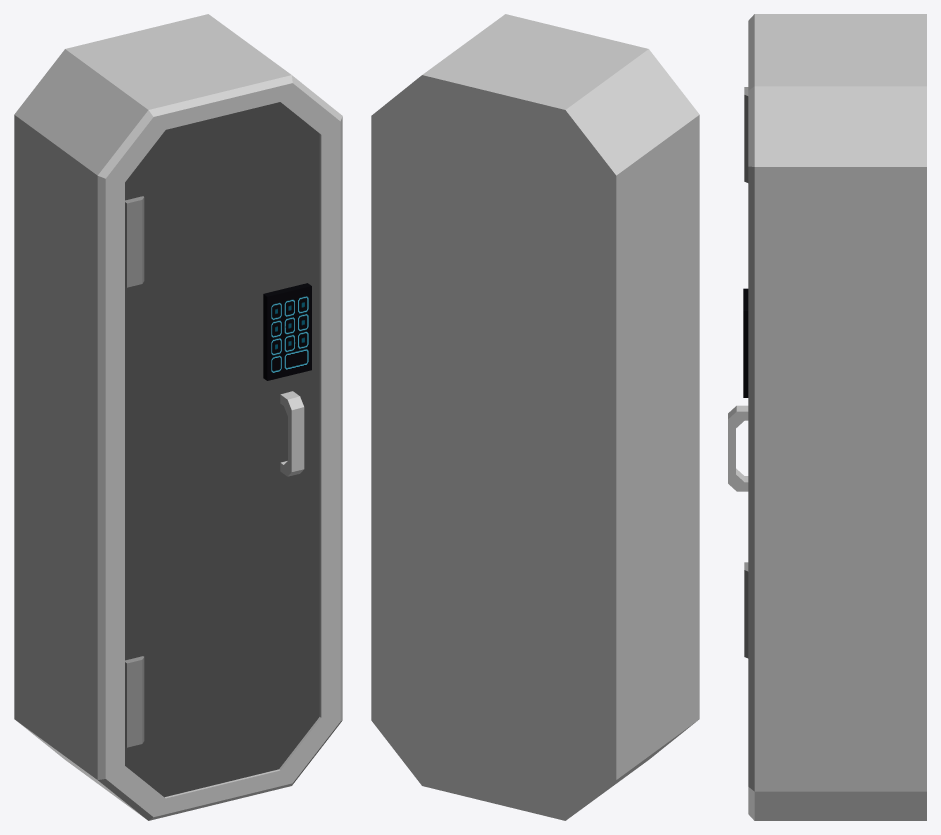
Rendered from SM_Locker_1.fbx.
The picture shows the model from 3 angles, left to right: view 1: azimuth 30°, elevation 25°; view 2: azimuth 150°, elevation 25°; view 3: azimuth 270°, elevation 25°; orthographic projection. The views are drawn at different scales.
Visible parts, largest first — view 1: SM_Locker_Door_1, SM_Locker_1; view 2: SM_Locker_1; view 3: SM_Locker_1, SM_Locker_Door_1.
Boxes of the visible parts, box(x1,y1,x2,y2) form: SM_Locker_Door_1: box(125, 102, 319, 797); SM_Locker_1: box(14, 14, 342, 820); SM_Locker_1: box(371, 14, 699, 820); SM_Locker_1: box(744, 14, 926, 820); SM_Locker_Door_1: box(728, 288, 748, 491).
Size of the model in its own units: 65.56 by 182 by 44.57.
